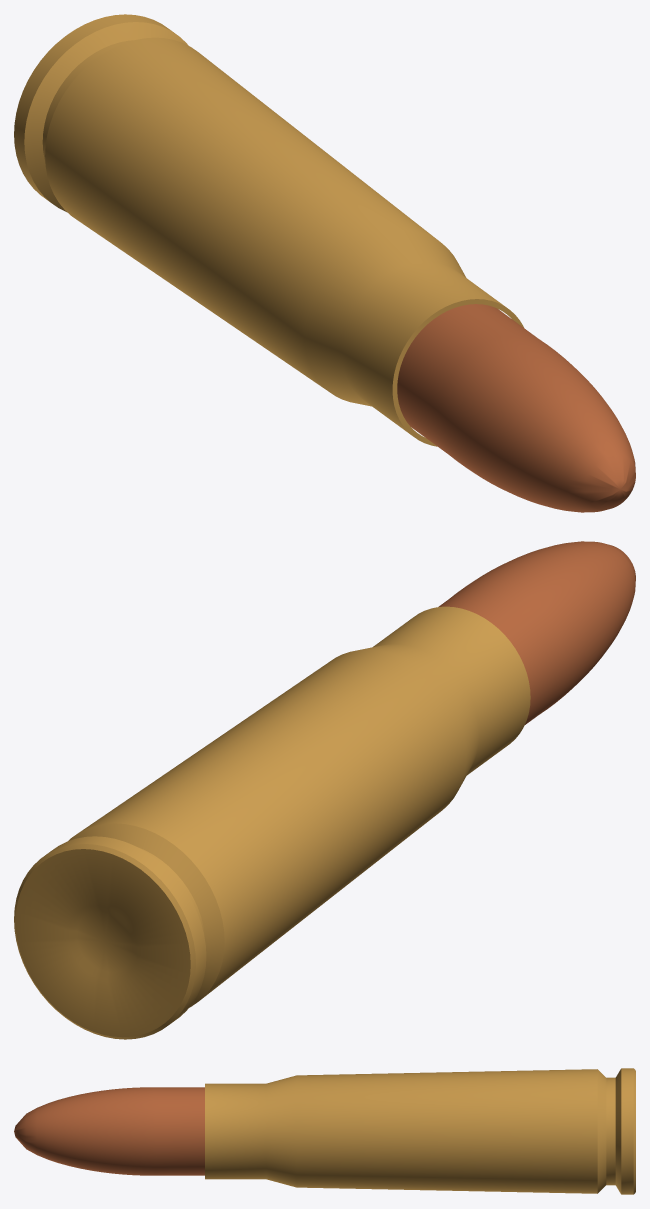
Rendered from cartridge-7.62x39.glb.
3 views of the same model, one above another, from view 1: azimuth 30°, elevation 25°; view 2: azimuth 150°, elevation 25°; view 3: azimuth 270°, elevation 25° (orthographic). The views are drawn at different scales.
Visible parts, largest first — view 1: body_LOD0; view 2: body_LOD0; view 3: body_LOD0.
Boxes of the visible parts, <box> form: body_LOD0: <box>14,14,635,512</box>; body_LOD0: <box>14,541,635,1039</box>; body_LOD0: <box>14,1068,635,1194</box>.
Size of what is drawn, in the model's own units: 0.0114 by 0.0114 by 0.0559.
